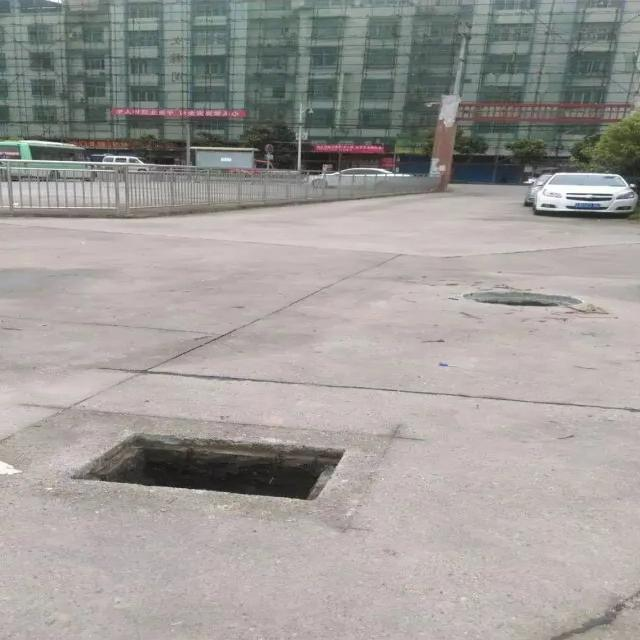pothole: (64, 432, 360, 509), (414, 286, 592, 322)
